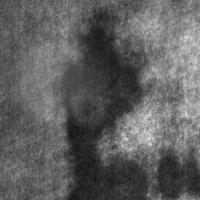patches: (56, 16, 144, 198), (79, 0, 200, 94), (7, 34, 101, 128), (166, 26, 200, 86), (152, 146, 190, 198)
